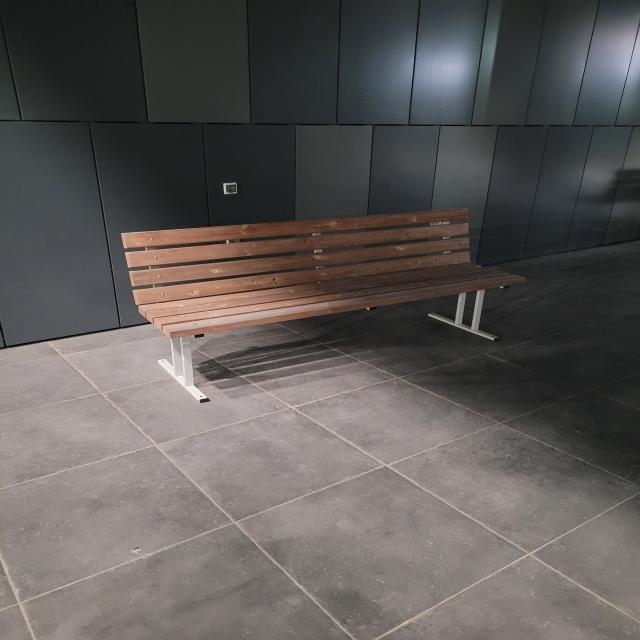Bench: (121, 208, 525, 403)
